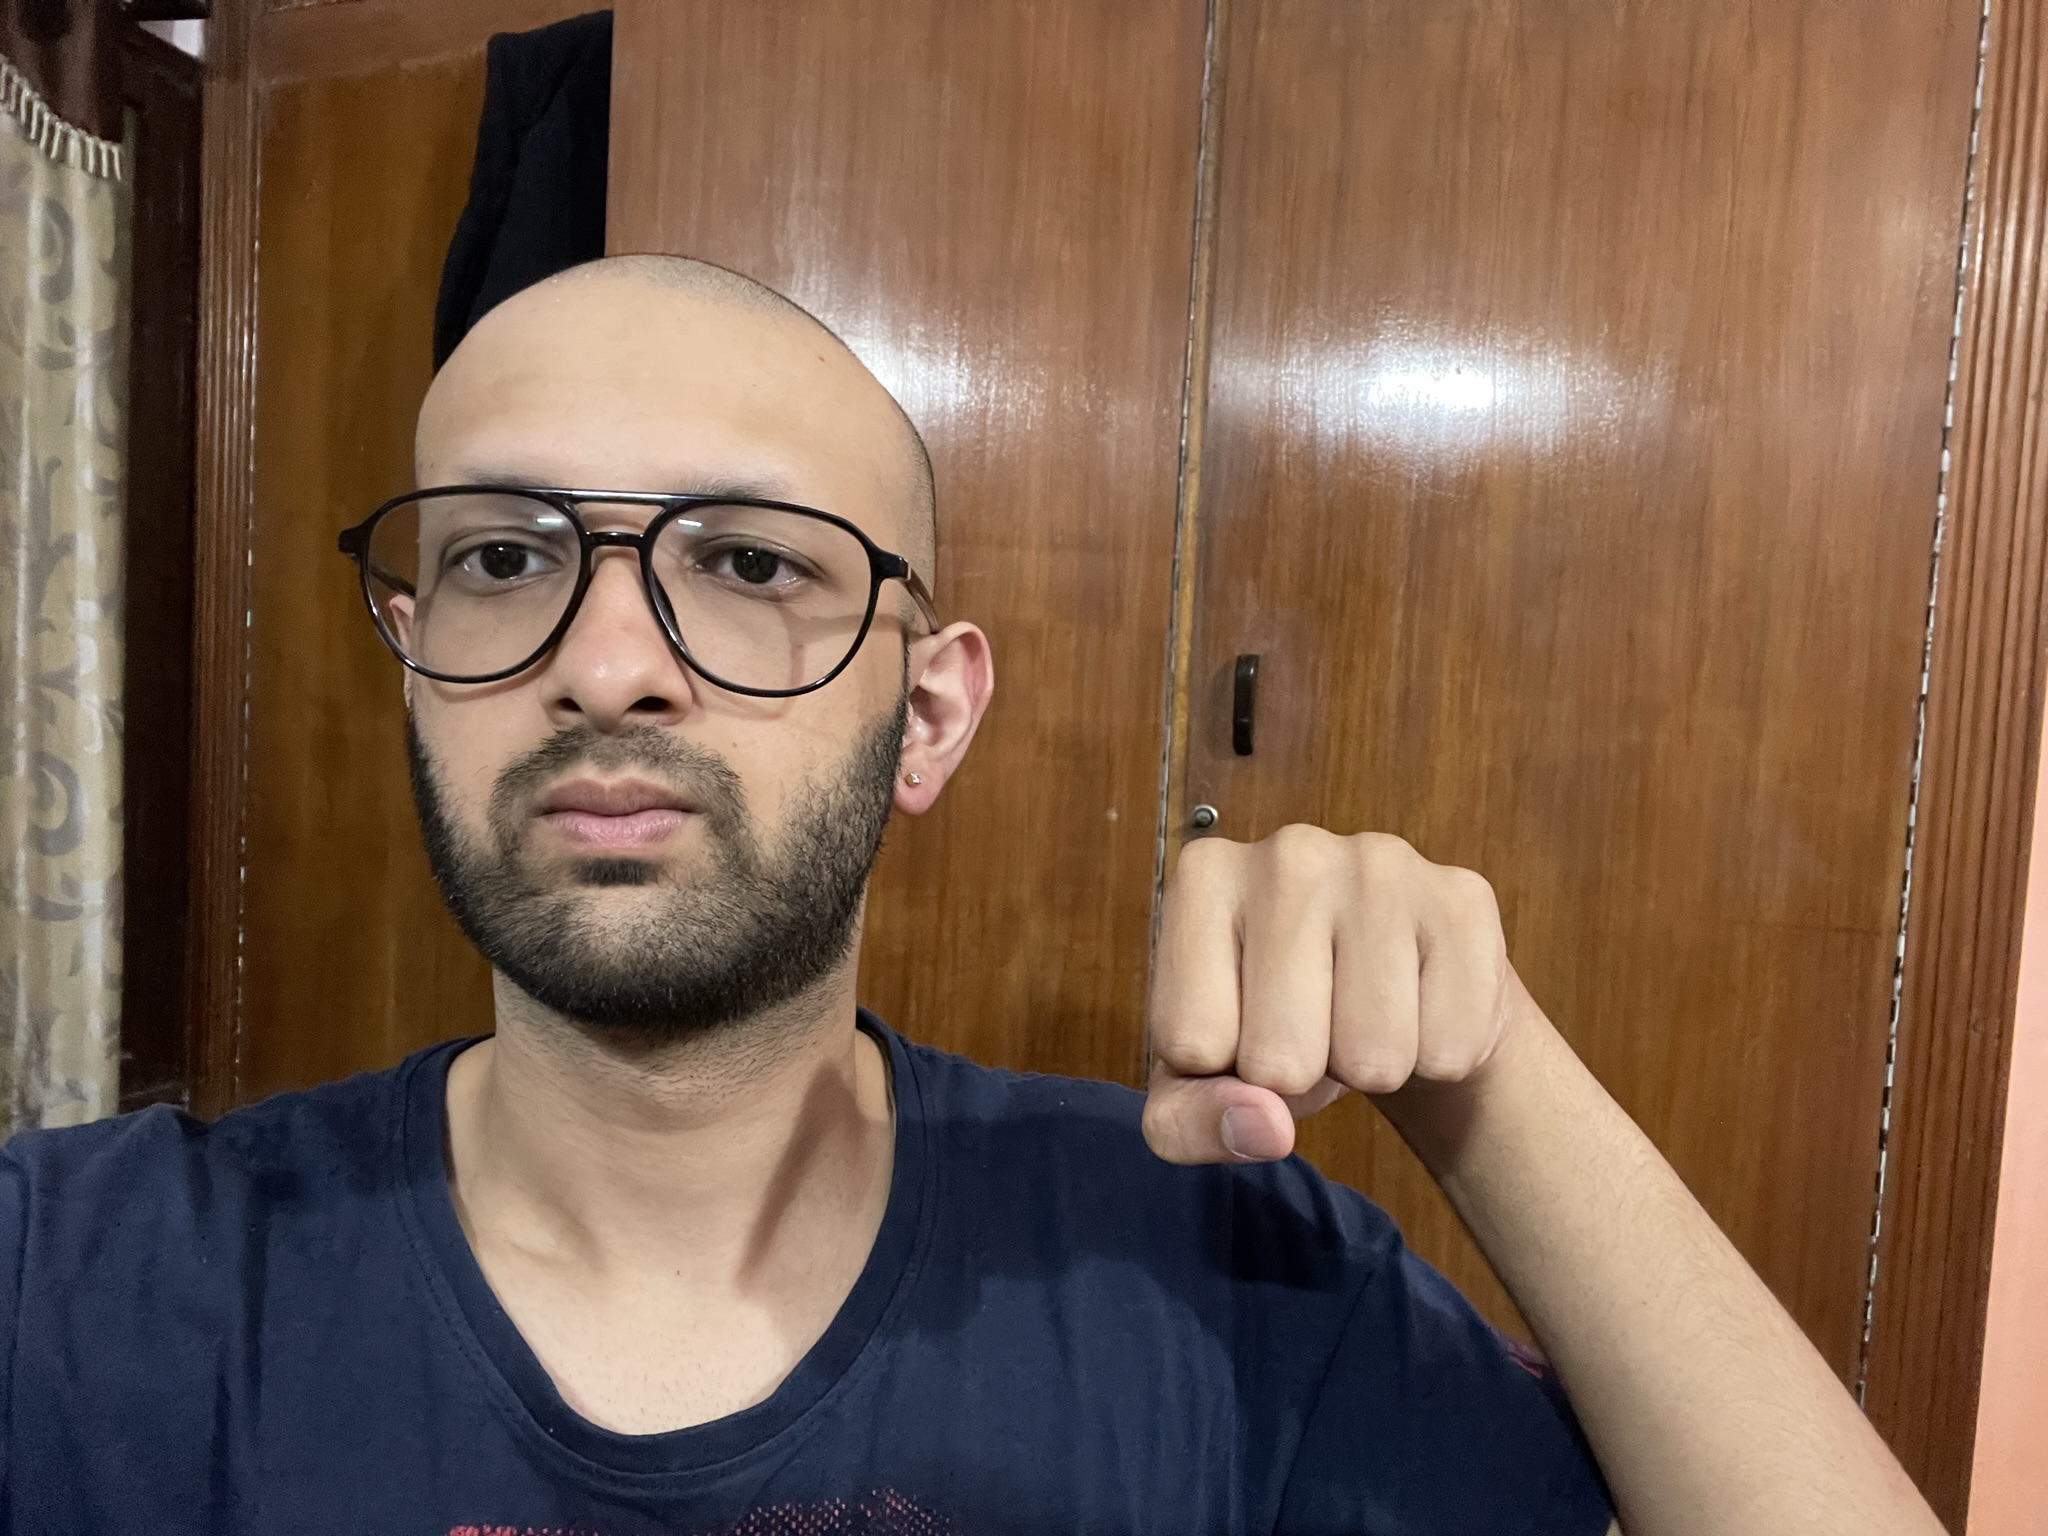Yes: (1122, 808, 1532, 1184)
